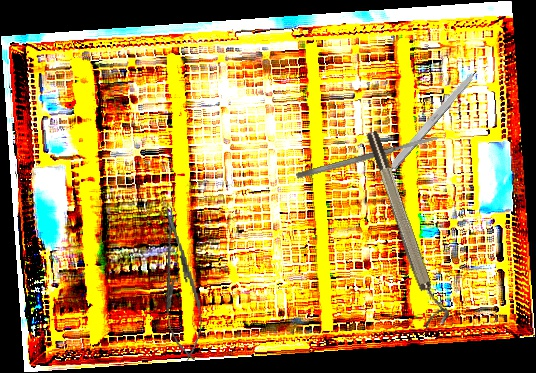Fixation Ring: (363, 126, 452, 330)
Needle Holder: (151, 203, 209, 363)
Scalpel Handle: (374, 66, 480, 186)
Spatula Surgical: (295, 134, 440, 180)
